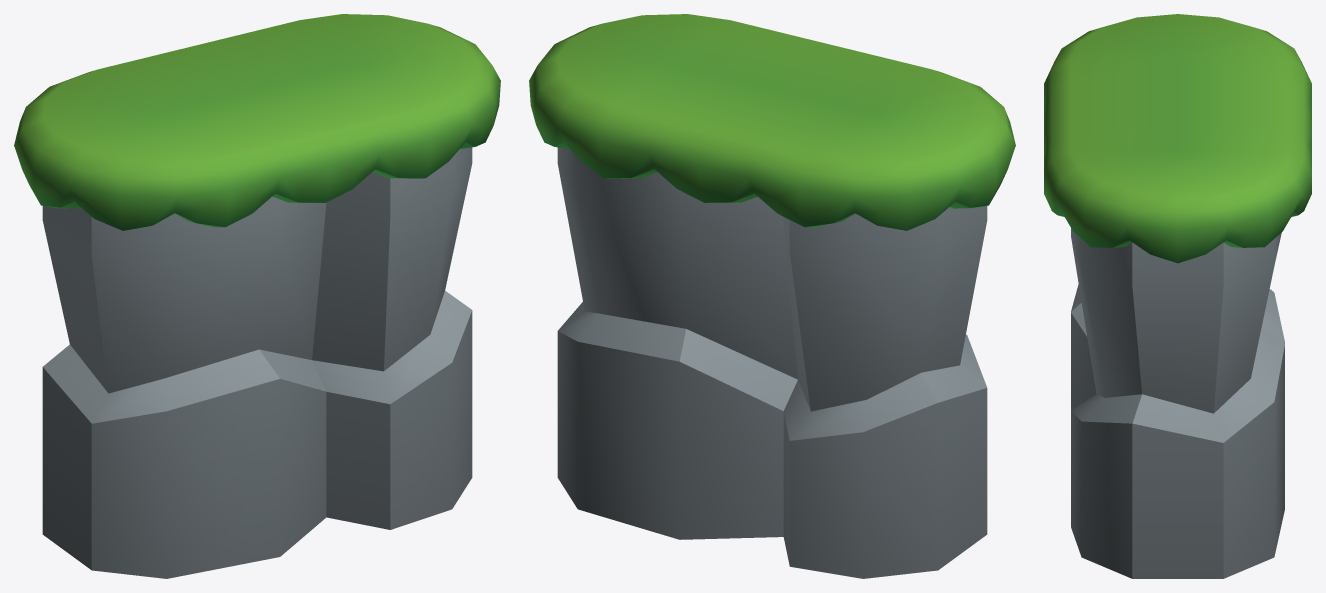
The model's file is Hill_4x2x4_Color1.gltf.
3 renders of one model, left to right at view 1: azimuth 30°, elevation 25°; view 2: azimuth 150°, elevation 25°; view 3: azimuth 270°, elevation 25°, orthographic. The views are drawn at different scales.
Visible parts, largest first — view 1: Hill_4x2x4_Color1; view 2: Hill_4x2x4_Color1; view 3: Hill_4x2x4_Color1.
Boxes of the visible parts, x1,y1,x2,y2 form: Hill_4x2x4_Color1: (14, 14, 500, 578); Hill_4x2x4_Color1: (529, 14, 1015, 578); Hill_4x2x4_Color1: (1044, 14, 1311, 578).
Bounding box in the file's own units: 4.47 × 4 × 2.5.
1 material, 1 textured.
